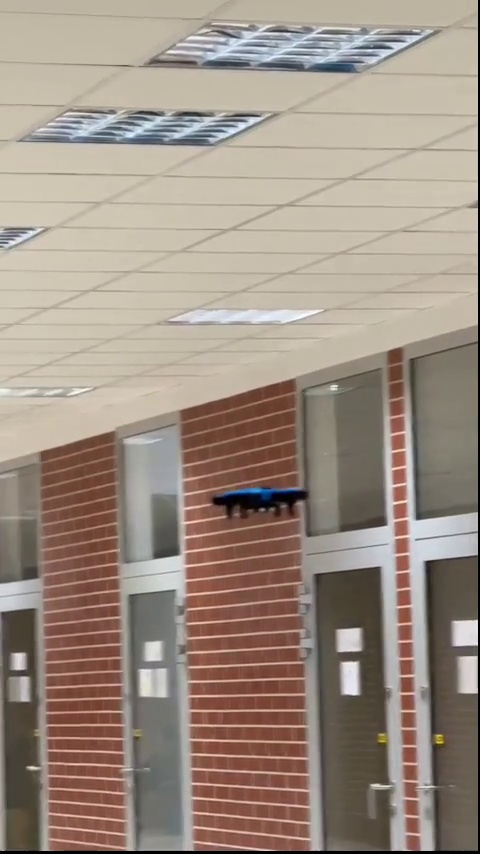drone: (216, 482, 311, 524)
